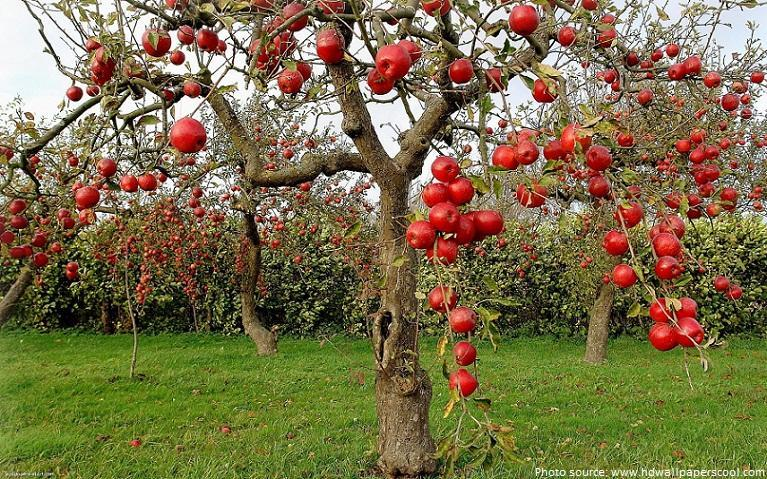apple: (169, 116, 207, 153), (374, 42, 408, 78), (508, 3, 540, 35), (406, 220, 439, 249), (317, 28, 345, 61), (560, 124, 590, 154), (429, 202, 460, 231), (142, 28, 171, 57), (429, 236, 458, 265), (676, 317, 704, 347), (648, 322, 676, 351), (367, 70, 396, 97), (429, 285, 458, 312), (452, 368, 479, 397), (515, 183, 547, 207), (491, 145, 520, 171), (448, 306, 477, 332), (196, 27, 225, 53), (277, 66, 303, 94), (612, 262, 639, 288), (585, 143, 611, 170), (602, 229, 629, 255), (448, 58, 473, 85), (73, 187, 102, 210), (453, 340, 477, 367), (474, 212, 503, 234), (652, 234, 681, 256), (648, 295, 672, 321), (674, 296, 698, 321), (431, 156, 458, 178), (654, 256, 681, 278), (615, 202, 641, 224), (515, 137, 536, 163), (90, 58, 113, 81), (589, 177, 611, 198), (557, 25, 578, 46), (451, 181, 474, 200), (97, 158, 117, 178), (65, 261, 80, 281), (66, 85, 83, 101), (10, 215, 28, 229)
